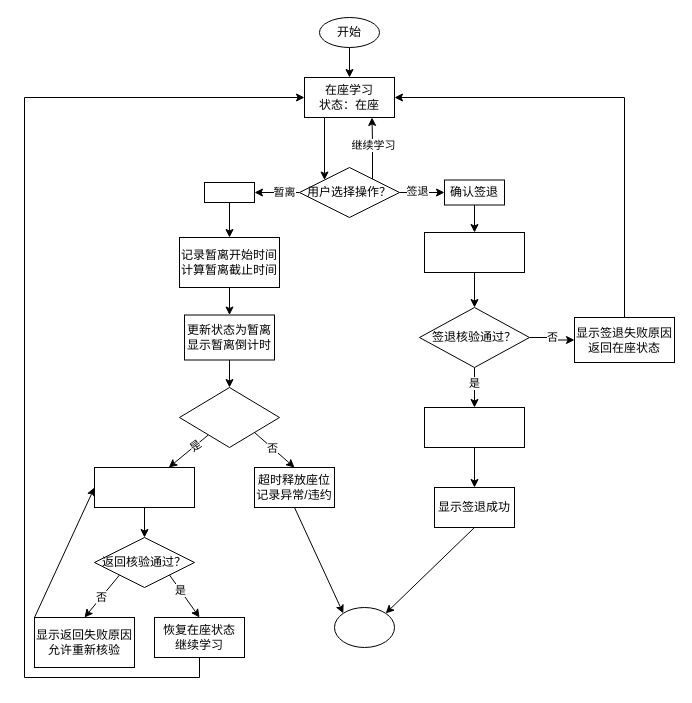
The diagram is 692 pixels wide and 703 high, and some of its shapes have lost their labels. Each missing label, with the centre of its shape:
是否按时返回？: pixel 229 417
更新状态为已完成 释放座位: pixel 474 427
申请暂离: pixel 229 192
结束: pixel 364 627
采集签退人脸画像 提取人脸特征: pixel 474 252
采集返回人脸图像 提取人脸特征: pixel 144 487
